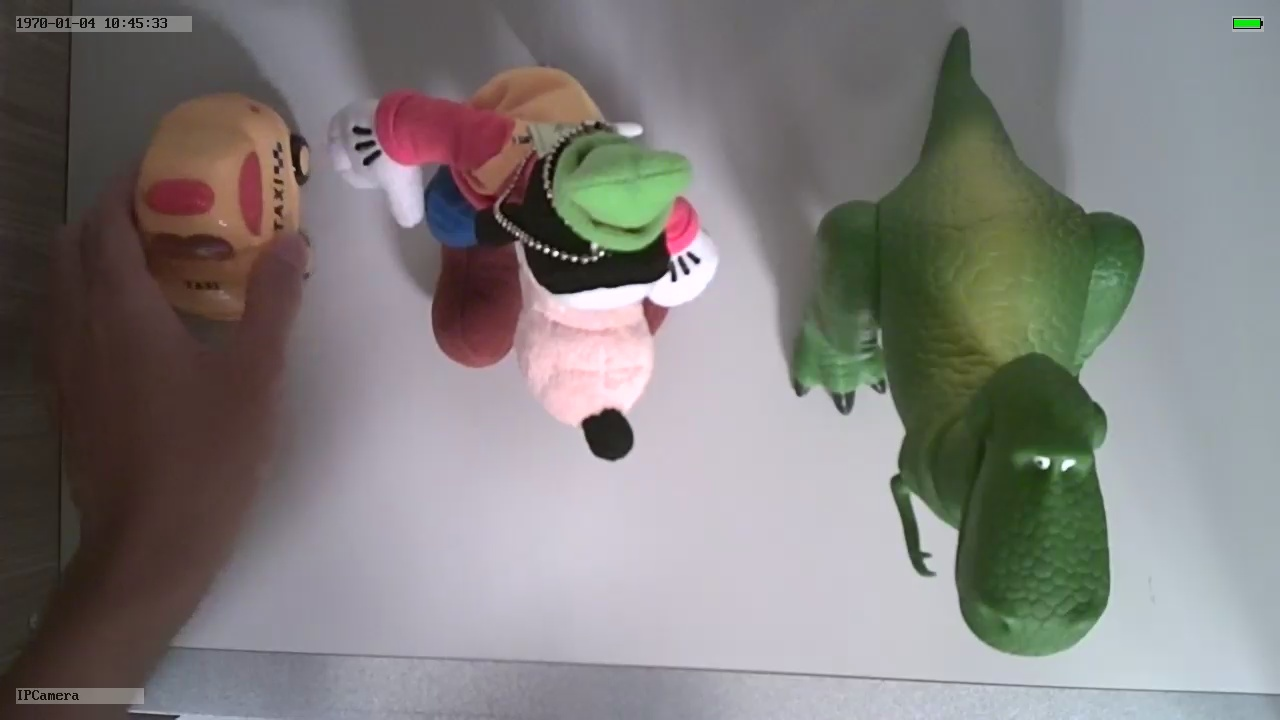goofy: (331, 64, 721, 463)
rex: (792, 102, 1145, 658)
